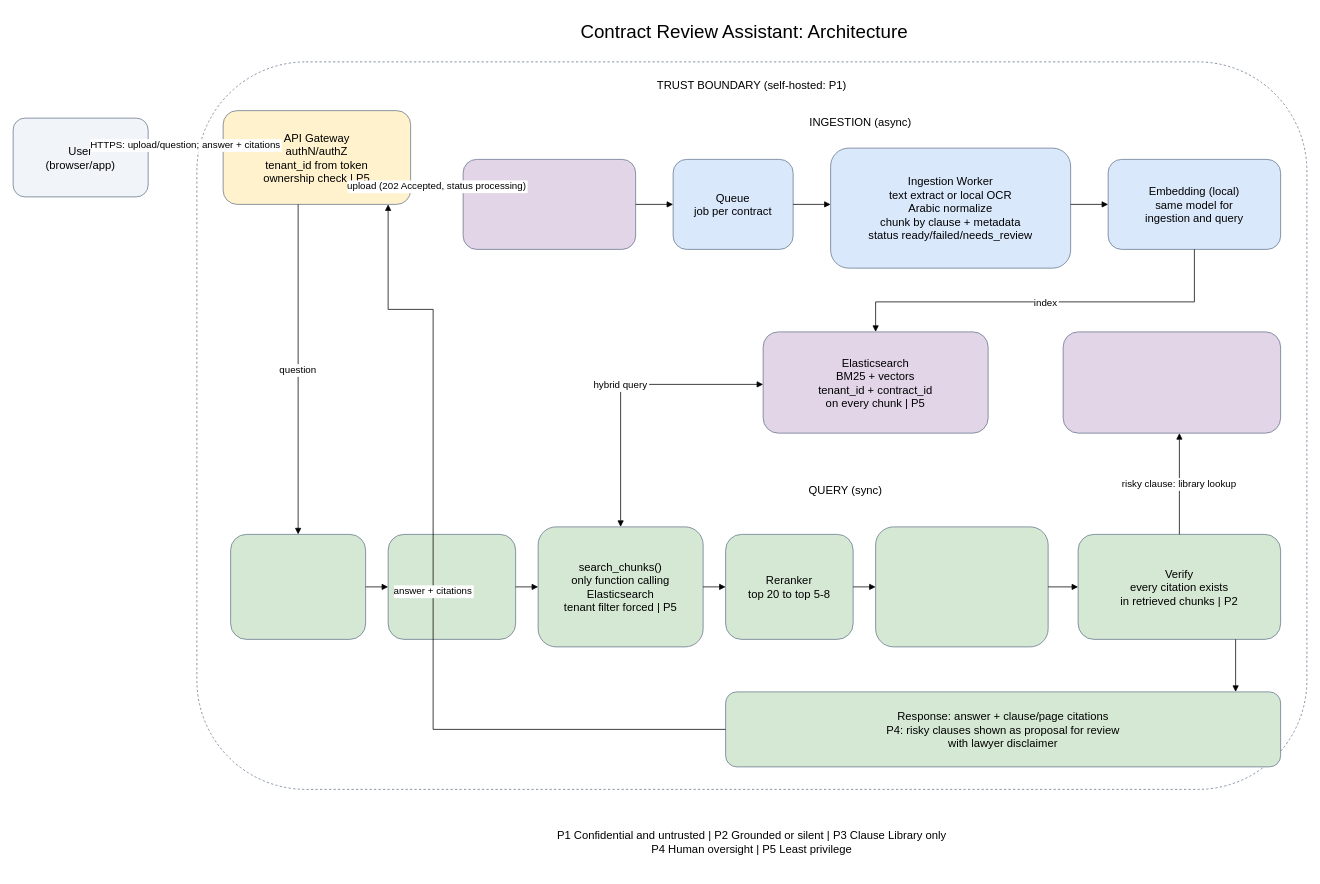
Image size: 1320x884. Some labels were removed from this diagram. Here are the shapes that lost their labels. From the top down, the box of each, then its label:
(462, 159, 636, 249): Object Storage encrypted original tenant_id + contract_id
(1062, 331, 1281, 433): Clause Library reviewed template clauses no client text | P3
(230, 534, 366, 639): Query Rewrite colloquial to legal terms
(387, 534, 516, 639): Embed Question same model
(875, 526, 1048, 647): Local LLM chunks in delimiters citation + abstain rules P1
